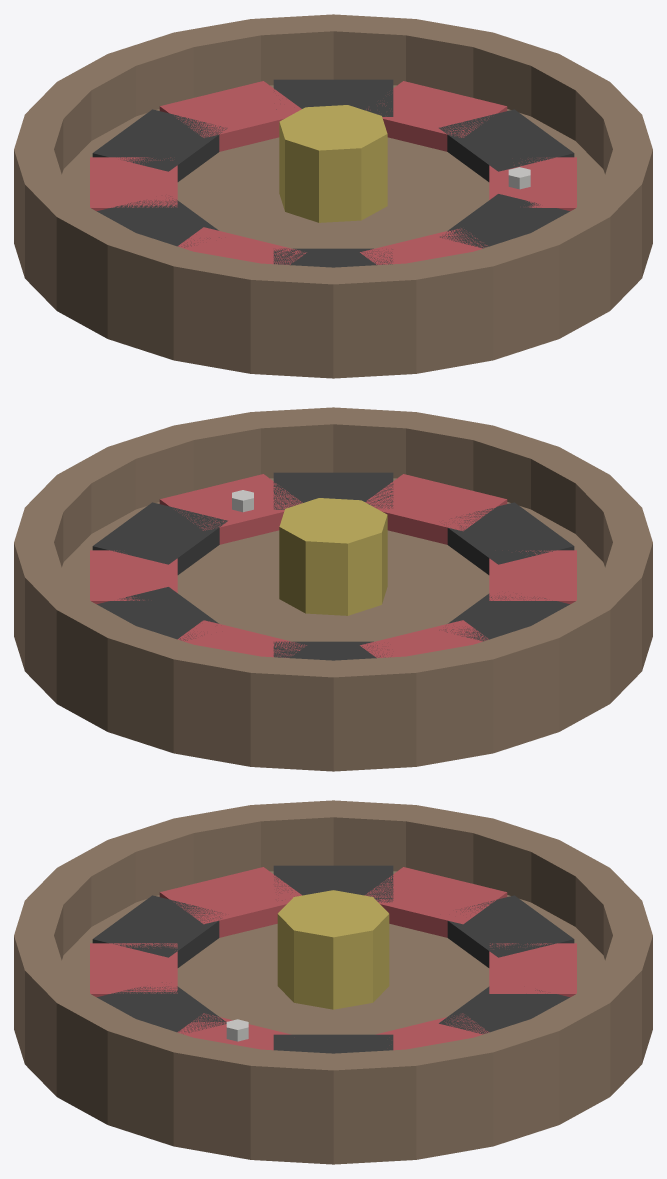
Rendered from roulette-wheel.glb.
3 views of the same model, one above another, from view 1: azimuth 30°, elevation 25°; view 2: azimuth 150°, elevation 25°; view 3: azimuth 270°, elevation 25° (orthographic).
Parts seen in each view (by area): view 1: geometry_0; view 2: geometry_0; view 3: geometry_0.
Boxes of the visible parts, x1,y1,x2,y2 form: geometry_0: (14, 14, 652, 378); geometry_0: (14, 407, 652, 771); geometry_0: (14, 800, 652, 1164).
Size of the model in its own units: 0.4 by 0.12 by 0.4.
